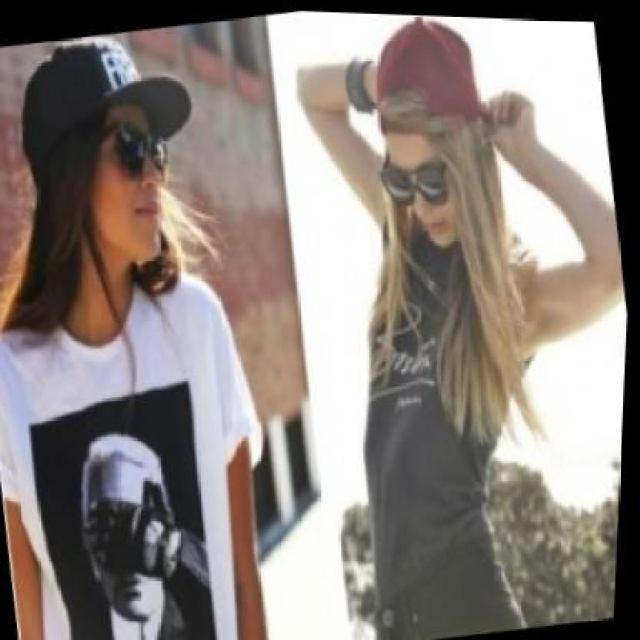hat: (4, 20, 207, 182), (357, 11, 521, 143)
